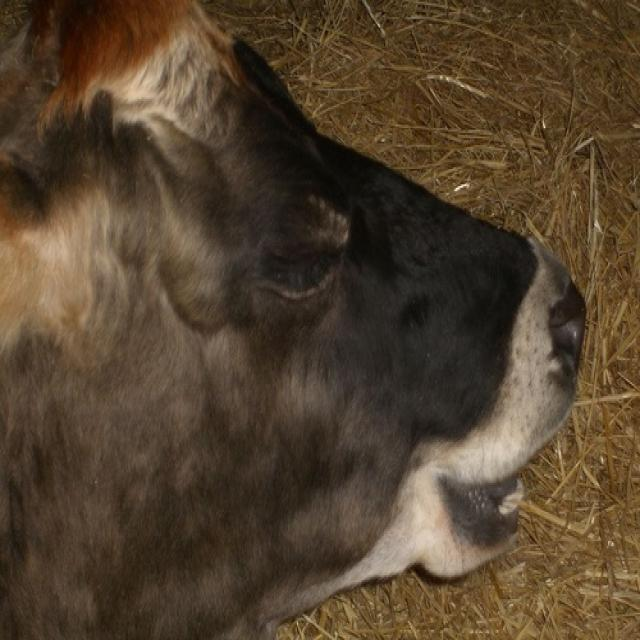cow: (0, 4, 594, 638)
